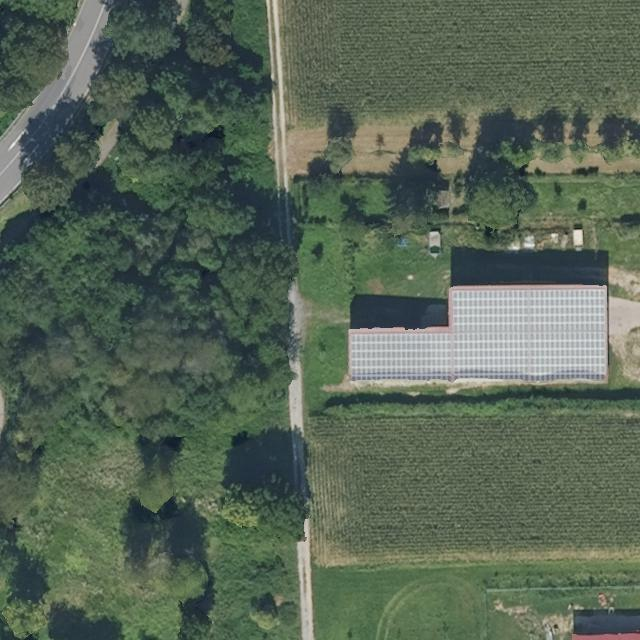PV: (348, 288, 607, 385)
